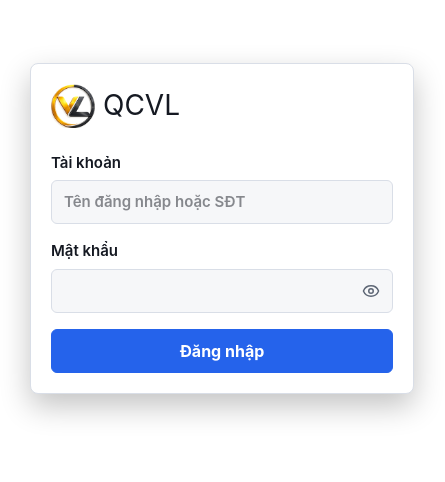
it: shows login failure instead of expired session when credentials are rejected
The width and height of the screenshot is (445, 482).
Type "admin" into the field.
click(222, 202); type("admin")  # box [51,180,393,224]
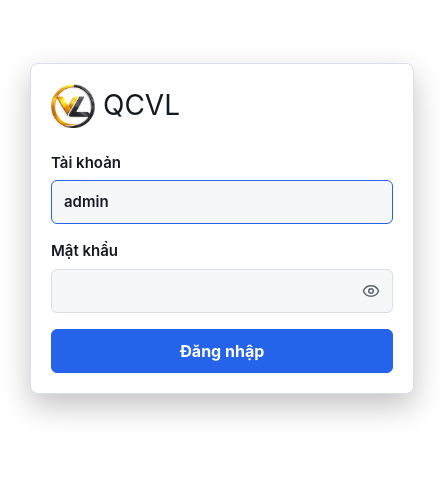
Type "bad" into the password field labelled "Mật khẩu".
click(222, 290); type("bad")  # box [51,268,393,312]
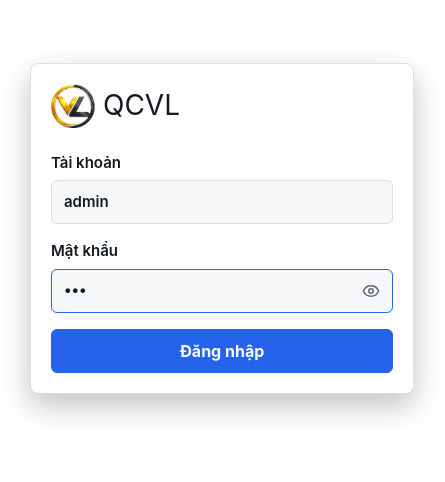
Click the button "Đăng nhập".
click(222, 350)  # box [51,328,393,372]
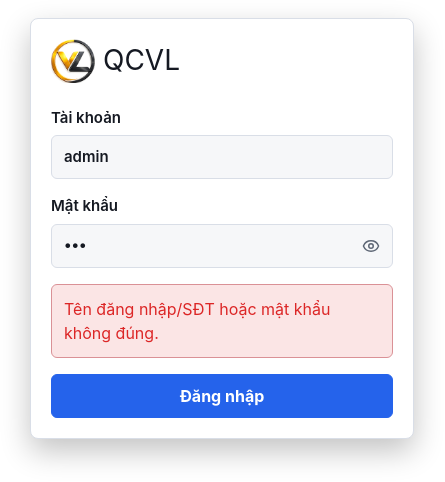
Expected: the message reads "Tên đăng nhập/SĐT hoặc mật khẩu không đúng.", [64,298,330,342]
